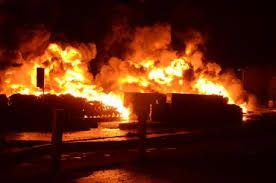fire: (1, 39, 138, 122)
